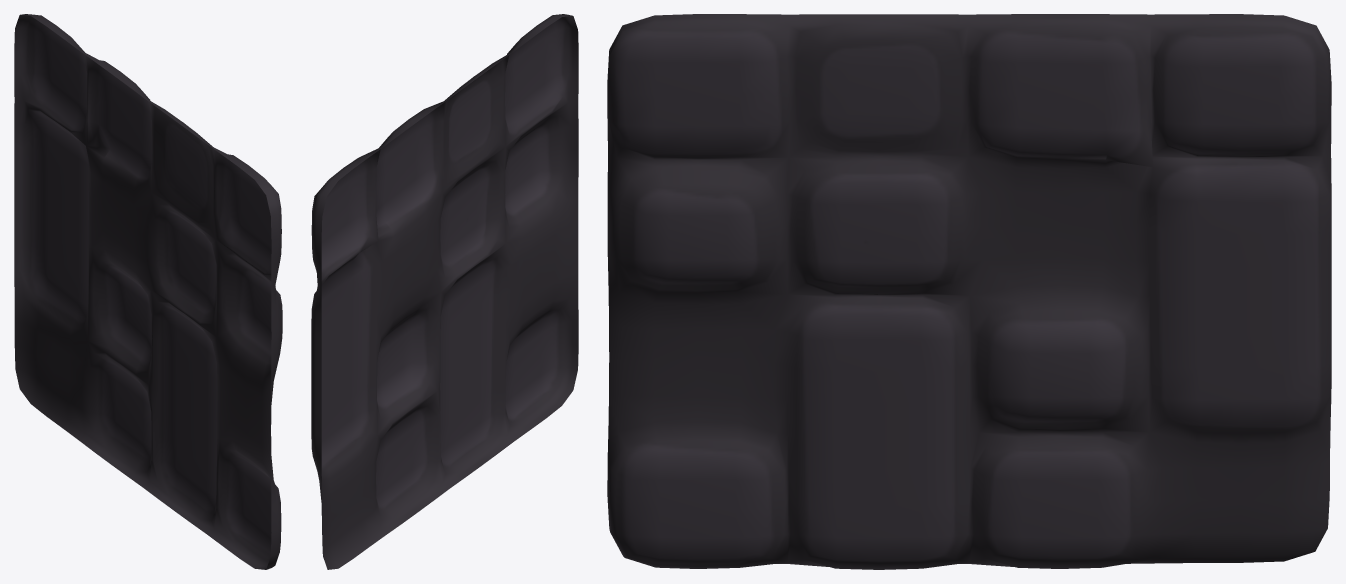
File: Pumpkin_wall_4.fbx
3 renders of one model, left to right at view 1: azimuth 30°, elevation 25°; view 2: azimuth 150°, elevation 25°; view 3: azimuth 270°, elevation 25°, orthographic. The views are drawn at different scales.
Visible parts, largest first — view 1: Plane.005; view 2: Plane.005; view 3: Plane.005.
Boxes of the visible parts, bbox=[...] form: Plane.005: bbox=[14, 14, 282, 569]; Plane.005: bbox=[311, 14, 578, 569]; Plane.005: bbox=[607, 14, 1331, 569].
Bounding box in the file's own units: 596 × 500 × 35.39.
